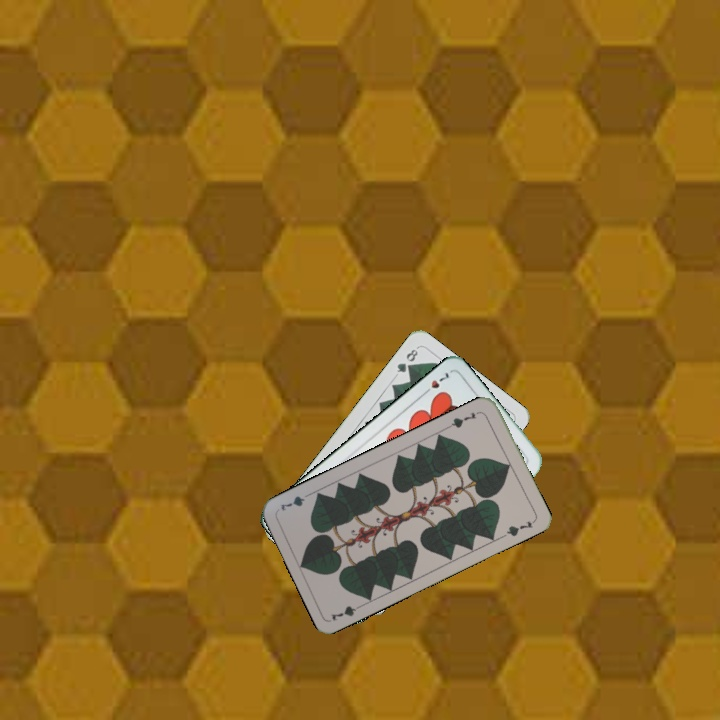G7: (327, 600, 367, 623), (445, 407, 483, 431)
G8: (393, 345, 421, 375)
H7: (419, 368, 452, 398)
